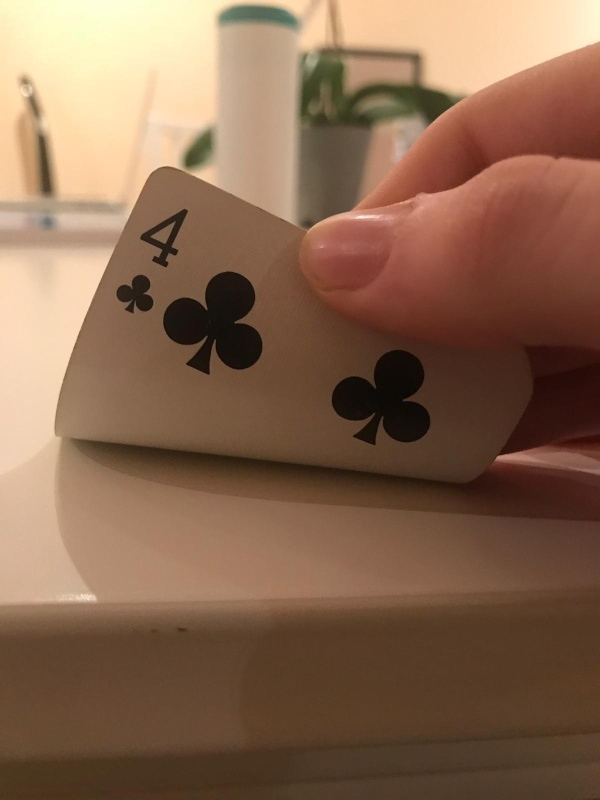C4: (115, 202, 190, 320)
